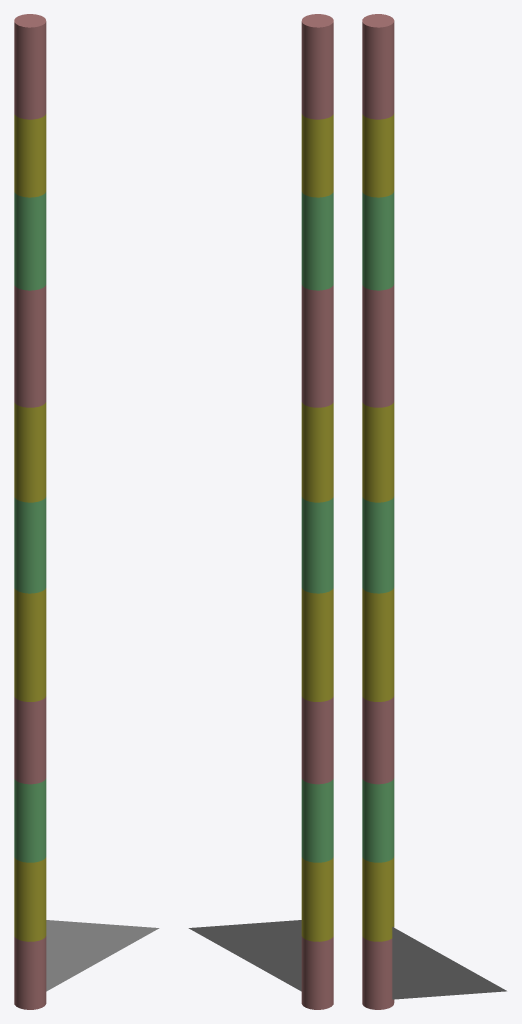
File: Pole Flag.fbx
The picture shows the model from 3 angles, left to right: view 1: azimuth 30°, elevation 25°; view 2: azimuth 150°, elevation 25°; view 3: azimuth 330°, elevation 25°; orthographic projection.
Visible parts, largest first — view 1: pCylinder1, pPlane1; view 2: pCylinder1, pPlane1; view 3: pCylinder1, pPlane1.
Part boxes in pixels (left/top/right/bottom): pCylinder1: left=14, top=14, right=46, bottom=1009; pPlane1: left=46, top=920, right=159, bottom=991; pCylinder1: left=301, top=14, right=333, bottom=1009; pPlane1: left=188, top=920, right=301, bottom=991; pCylinder1: left=362, top=14, right=394, bottom=1009; pPlane1: left=392, top=927, right=506, bottom=999.
Size of the model in its own units: 5.14 by 33.61 by 1.
